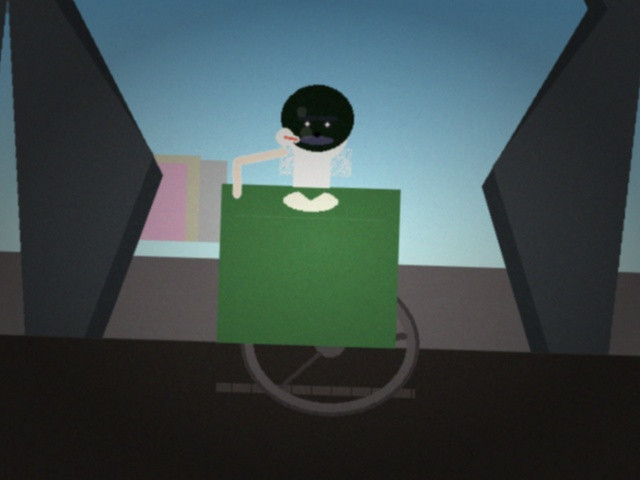smoking: (271, 123, 296, 153)
